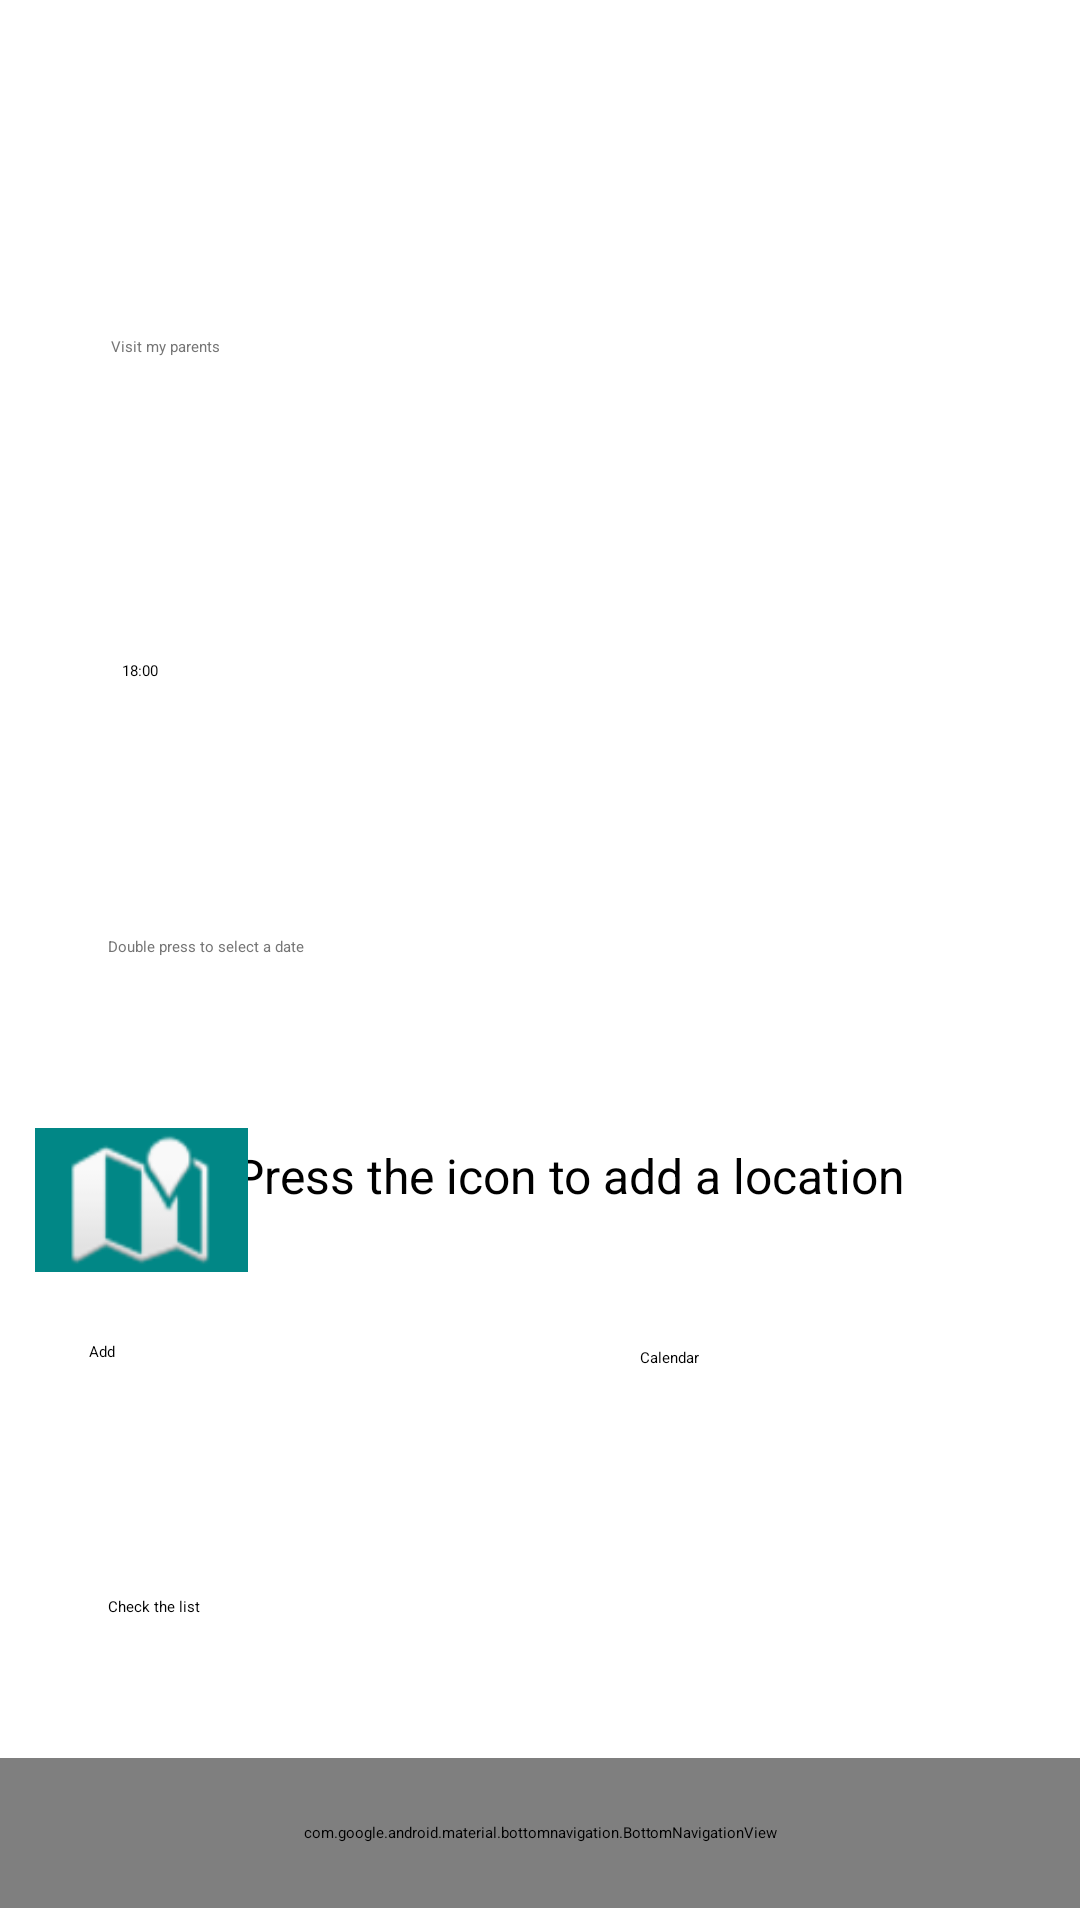

Screen size 1080×1920. Icon name, then its box in pixels as (x1, y1, x2, y2):
Map: (35, 1128, 248, 1272)
